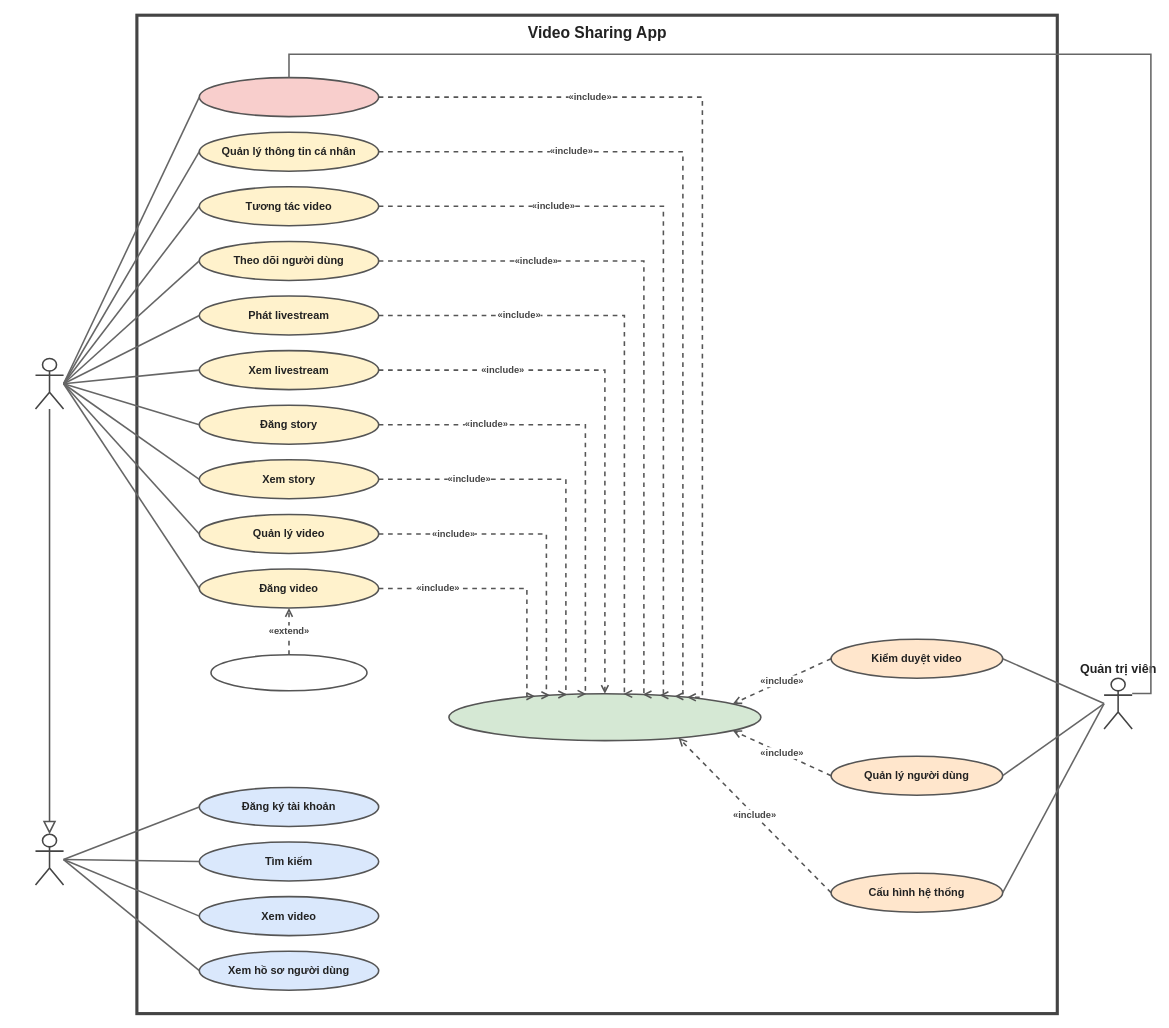
This 1169x1028 diagram has some shape labels left out. The centre of each missing label's shape, as x and y in pixels:
"Chỉnh sửa video" belongs at [288,672].
"Khách" belongs at [49,859].
"Người dùng" belongs at [49,383].
"Đăng nhập" belongs at [604,717].
"Đăng xuất" belongs at [288,96].
